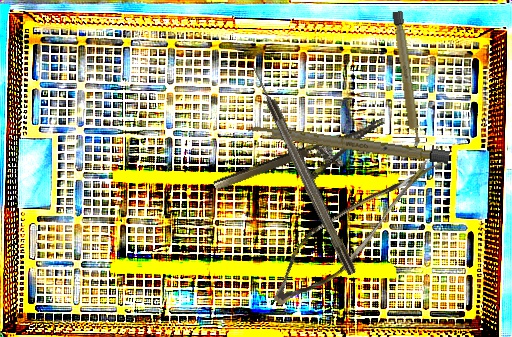Hook Surgical: (248, 63, 358, 277)
Micro Scissor: (263, 126, 438, 329)
Needle Holder: (212, 118, 395, 213)
Scalpel Handle: (247, 122, 450, 165), (391, 10, 422, 149)
